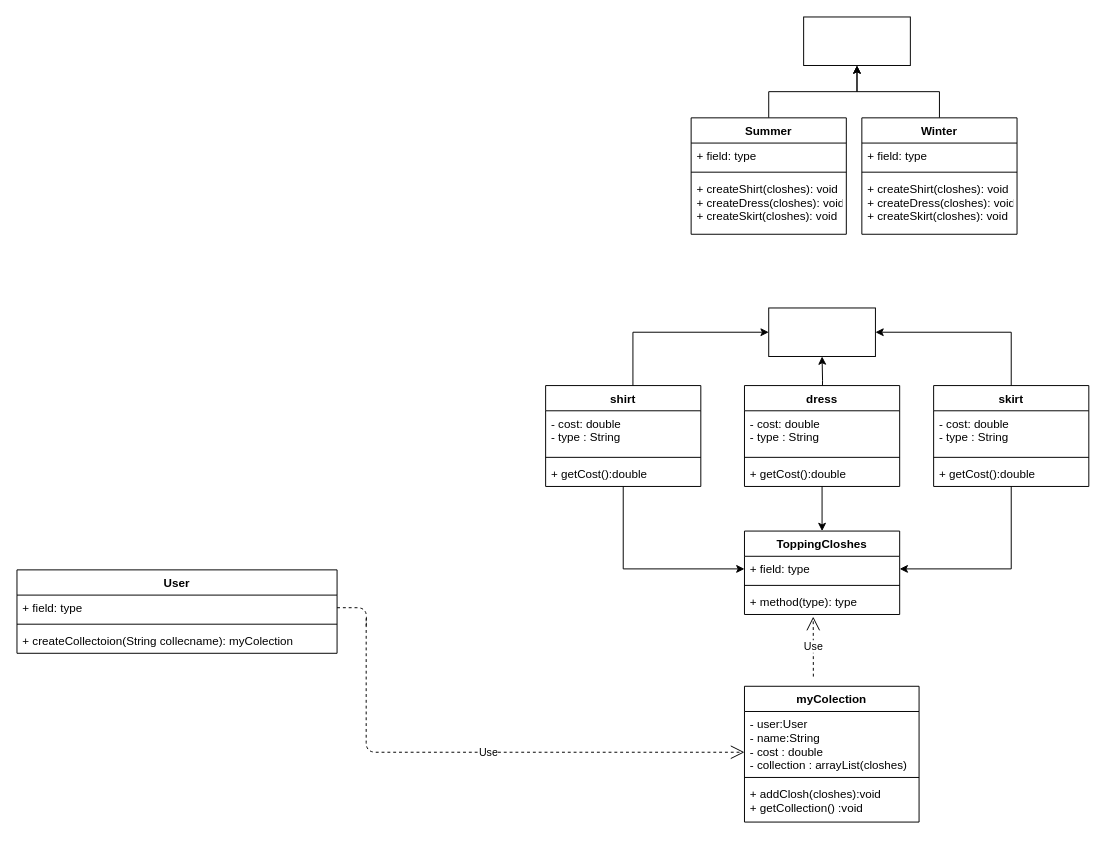
This 1106x842 diagram has some shape labels left out. The shapes that lost their labels are listed below. From the top down, each one's centre as x and y in pixels, then its label:
(856,40): «interface» Collection
(821,331): «interface» closhes
